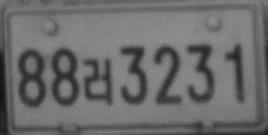1: (221, 43, 250, 102)
2: (153, 45, 182, 104)
3: (186, 43, 216, 103), (120, 46, 147, 104)
8: (17, 48, 46, 107), (51, 47, 79, 106)
러: (83, 57, 113, 105)
